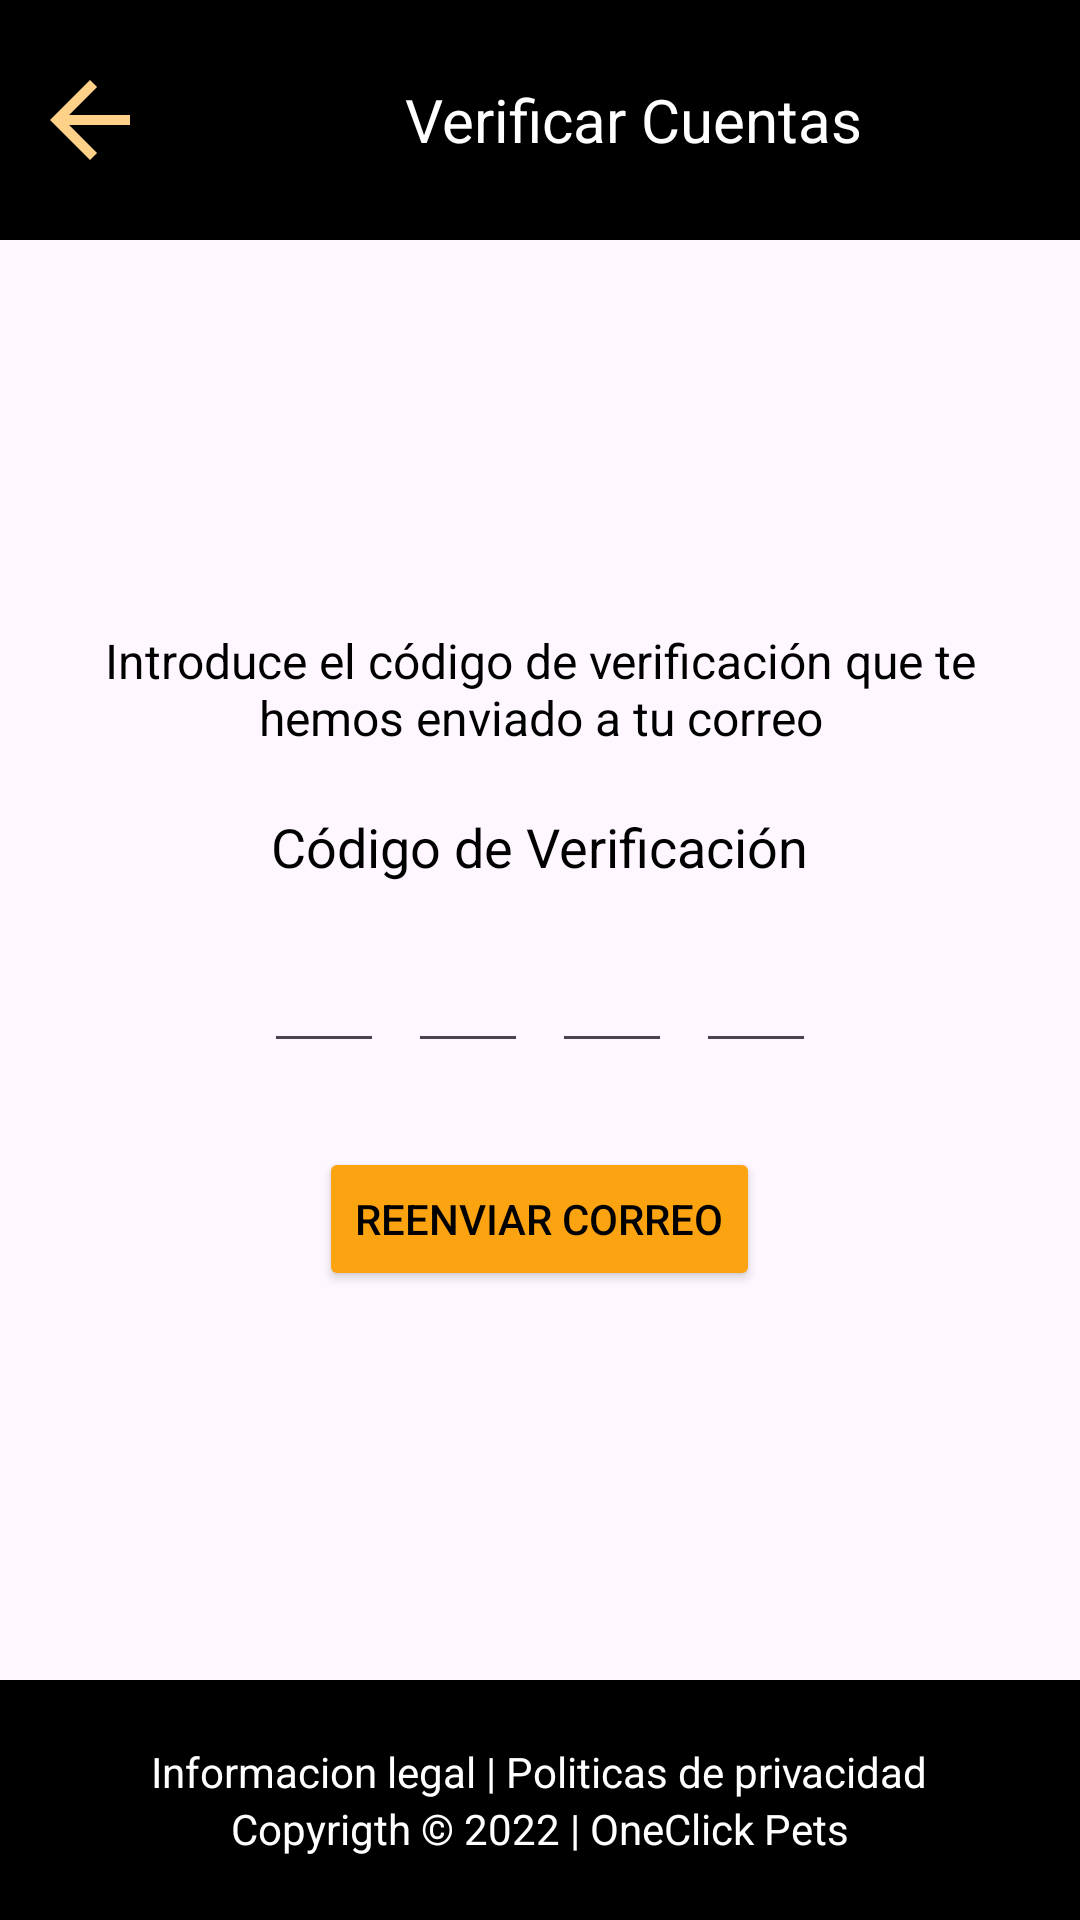

Screen size 1080 x 1920. Icon name, then its center in pixels as point (x, y):
atras: point (90, 120)
